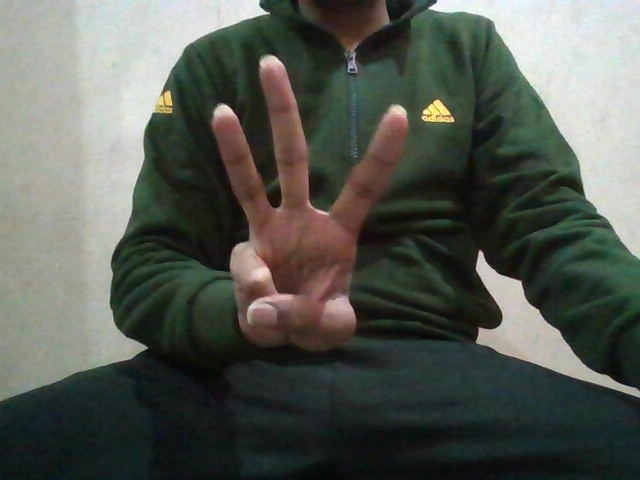W: (202, 55, 413, 347)
